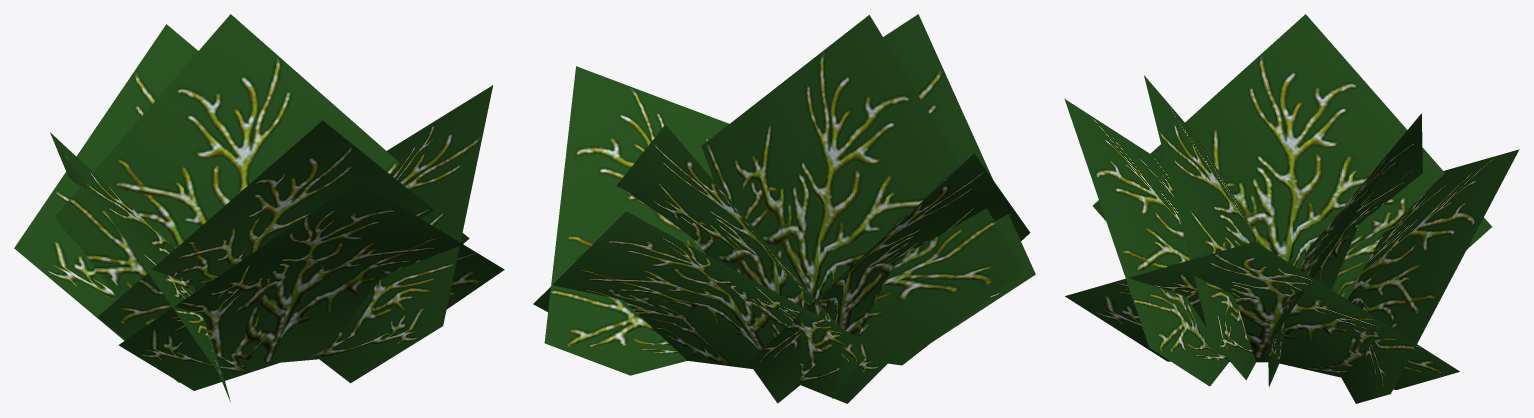
Rendered from Stage_BingYuan_ZhiWu03.FBX.
3 renders of one model, left to right at view 1: azimuth 30°, elevation 25°; view 2: azimuth 150°, elevation 25°; view 3: azimuth 270°, elevation 25°, orthographic. The views are drawn at different scales.
Visible parts, largest first — view 1: Stage_BingYuan_ZhiWu03; view 2: Stage_BingYuan_ZhiWu03; view 3: Stage_BingYuan_ZhiWu03.
Boxes of the visible parts, x1,y1,x2,y2 form: Stage_BingYuan_ZhiWu03: (14, 14, 504, 402); Stage_BingYuan_ZhiWu03: (533, 14, 1035, 403); Stage_BingYuan_ZhiWu03: (1064, 14, 1519, 403).
Bounding box in the file's own units: 229 × 148 × 227.
